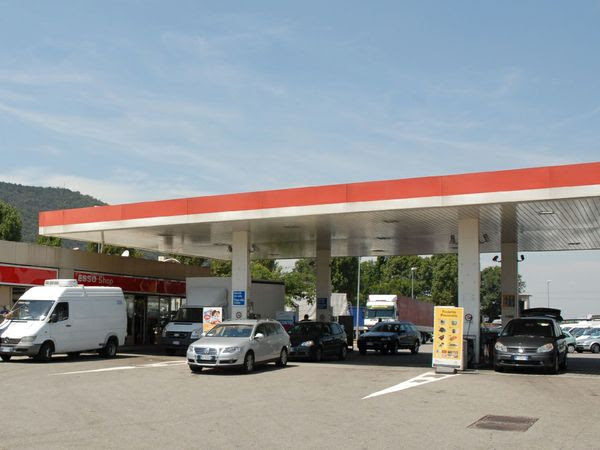car: (0, 276, 143, 357), (184, 286, 291, 376), (289, 287, 421, 358)
